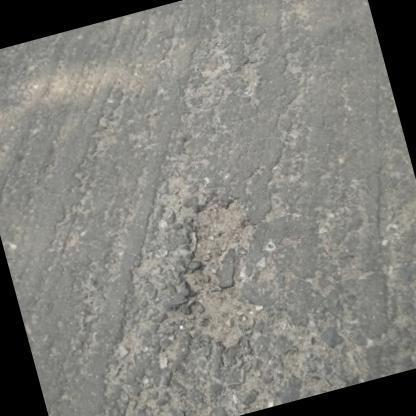pothole: (168, 196, 265, 346), (154, 348, 338, 416), (238, 29, 261, 100)
